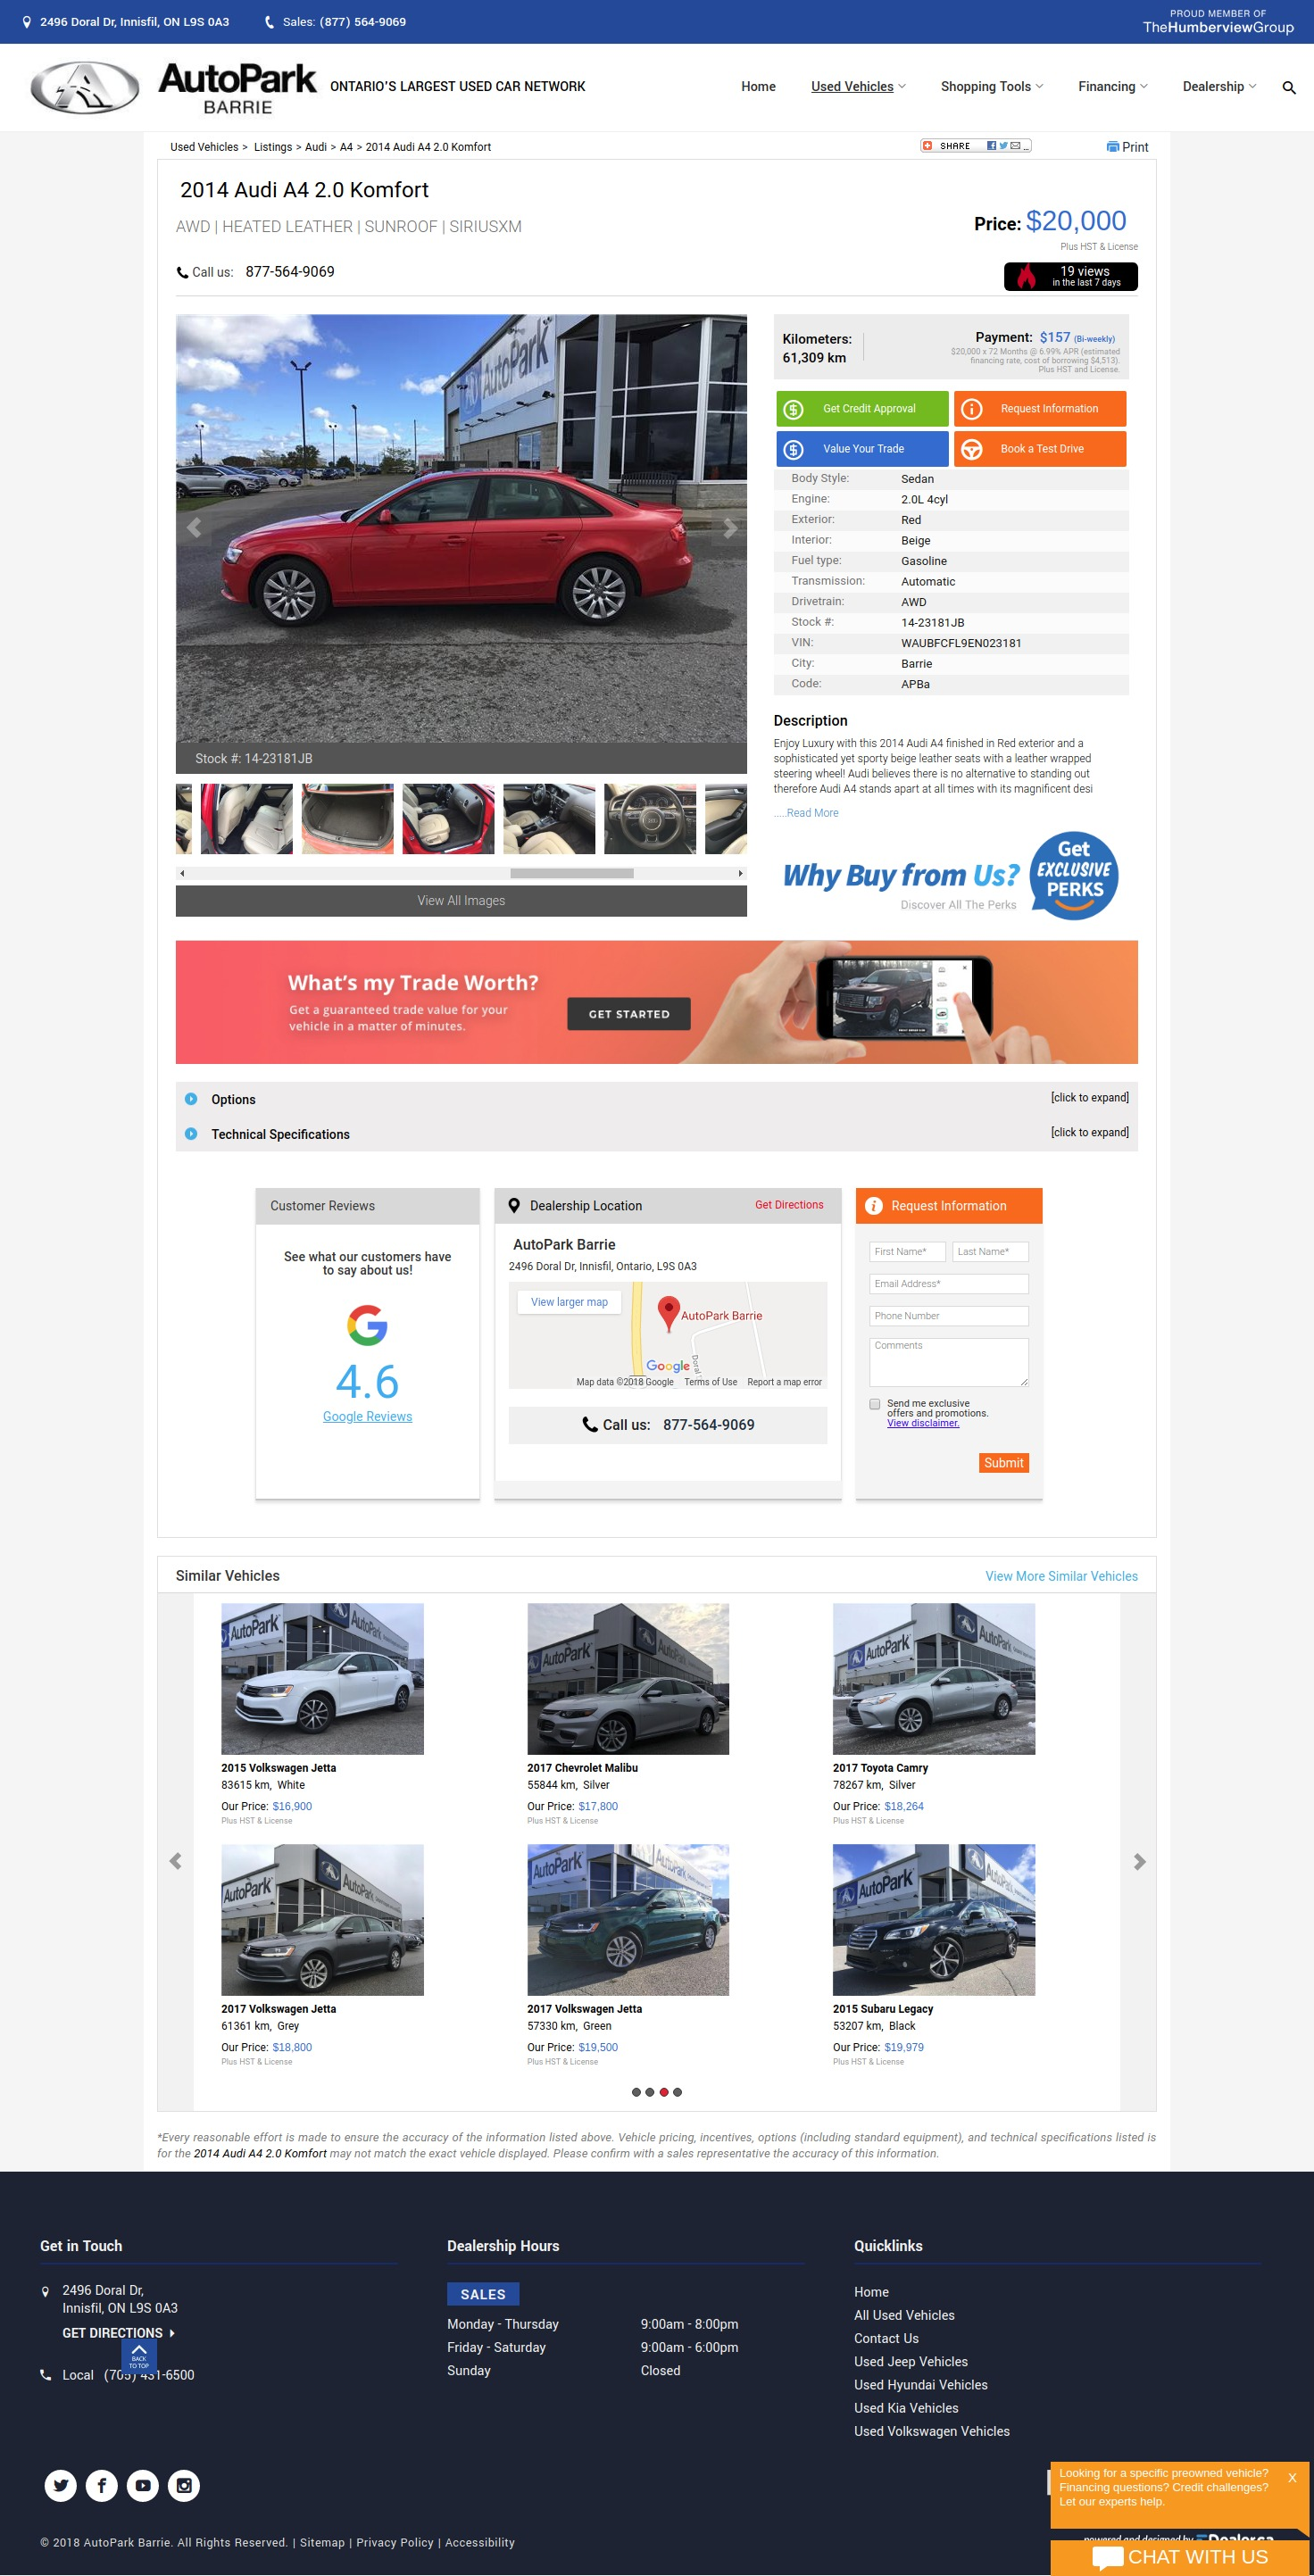car: (711, 509, 749, 549)
